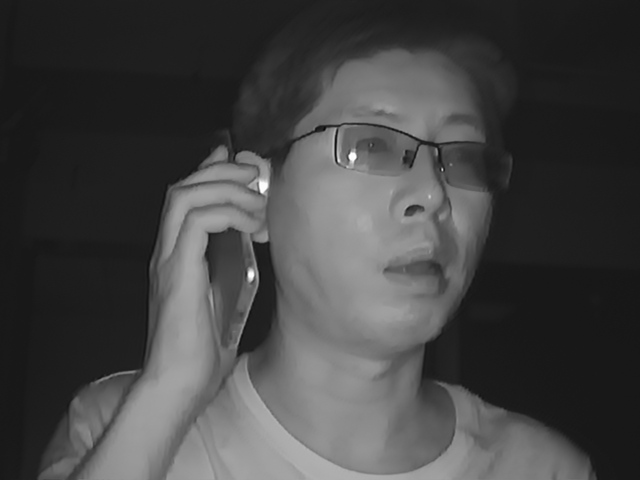hand: (146, 163, 260, 367)
